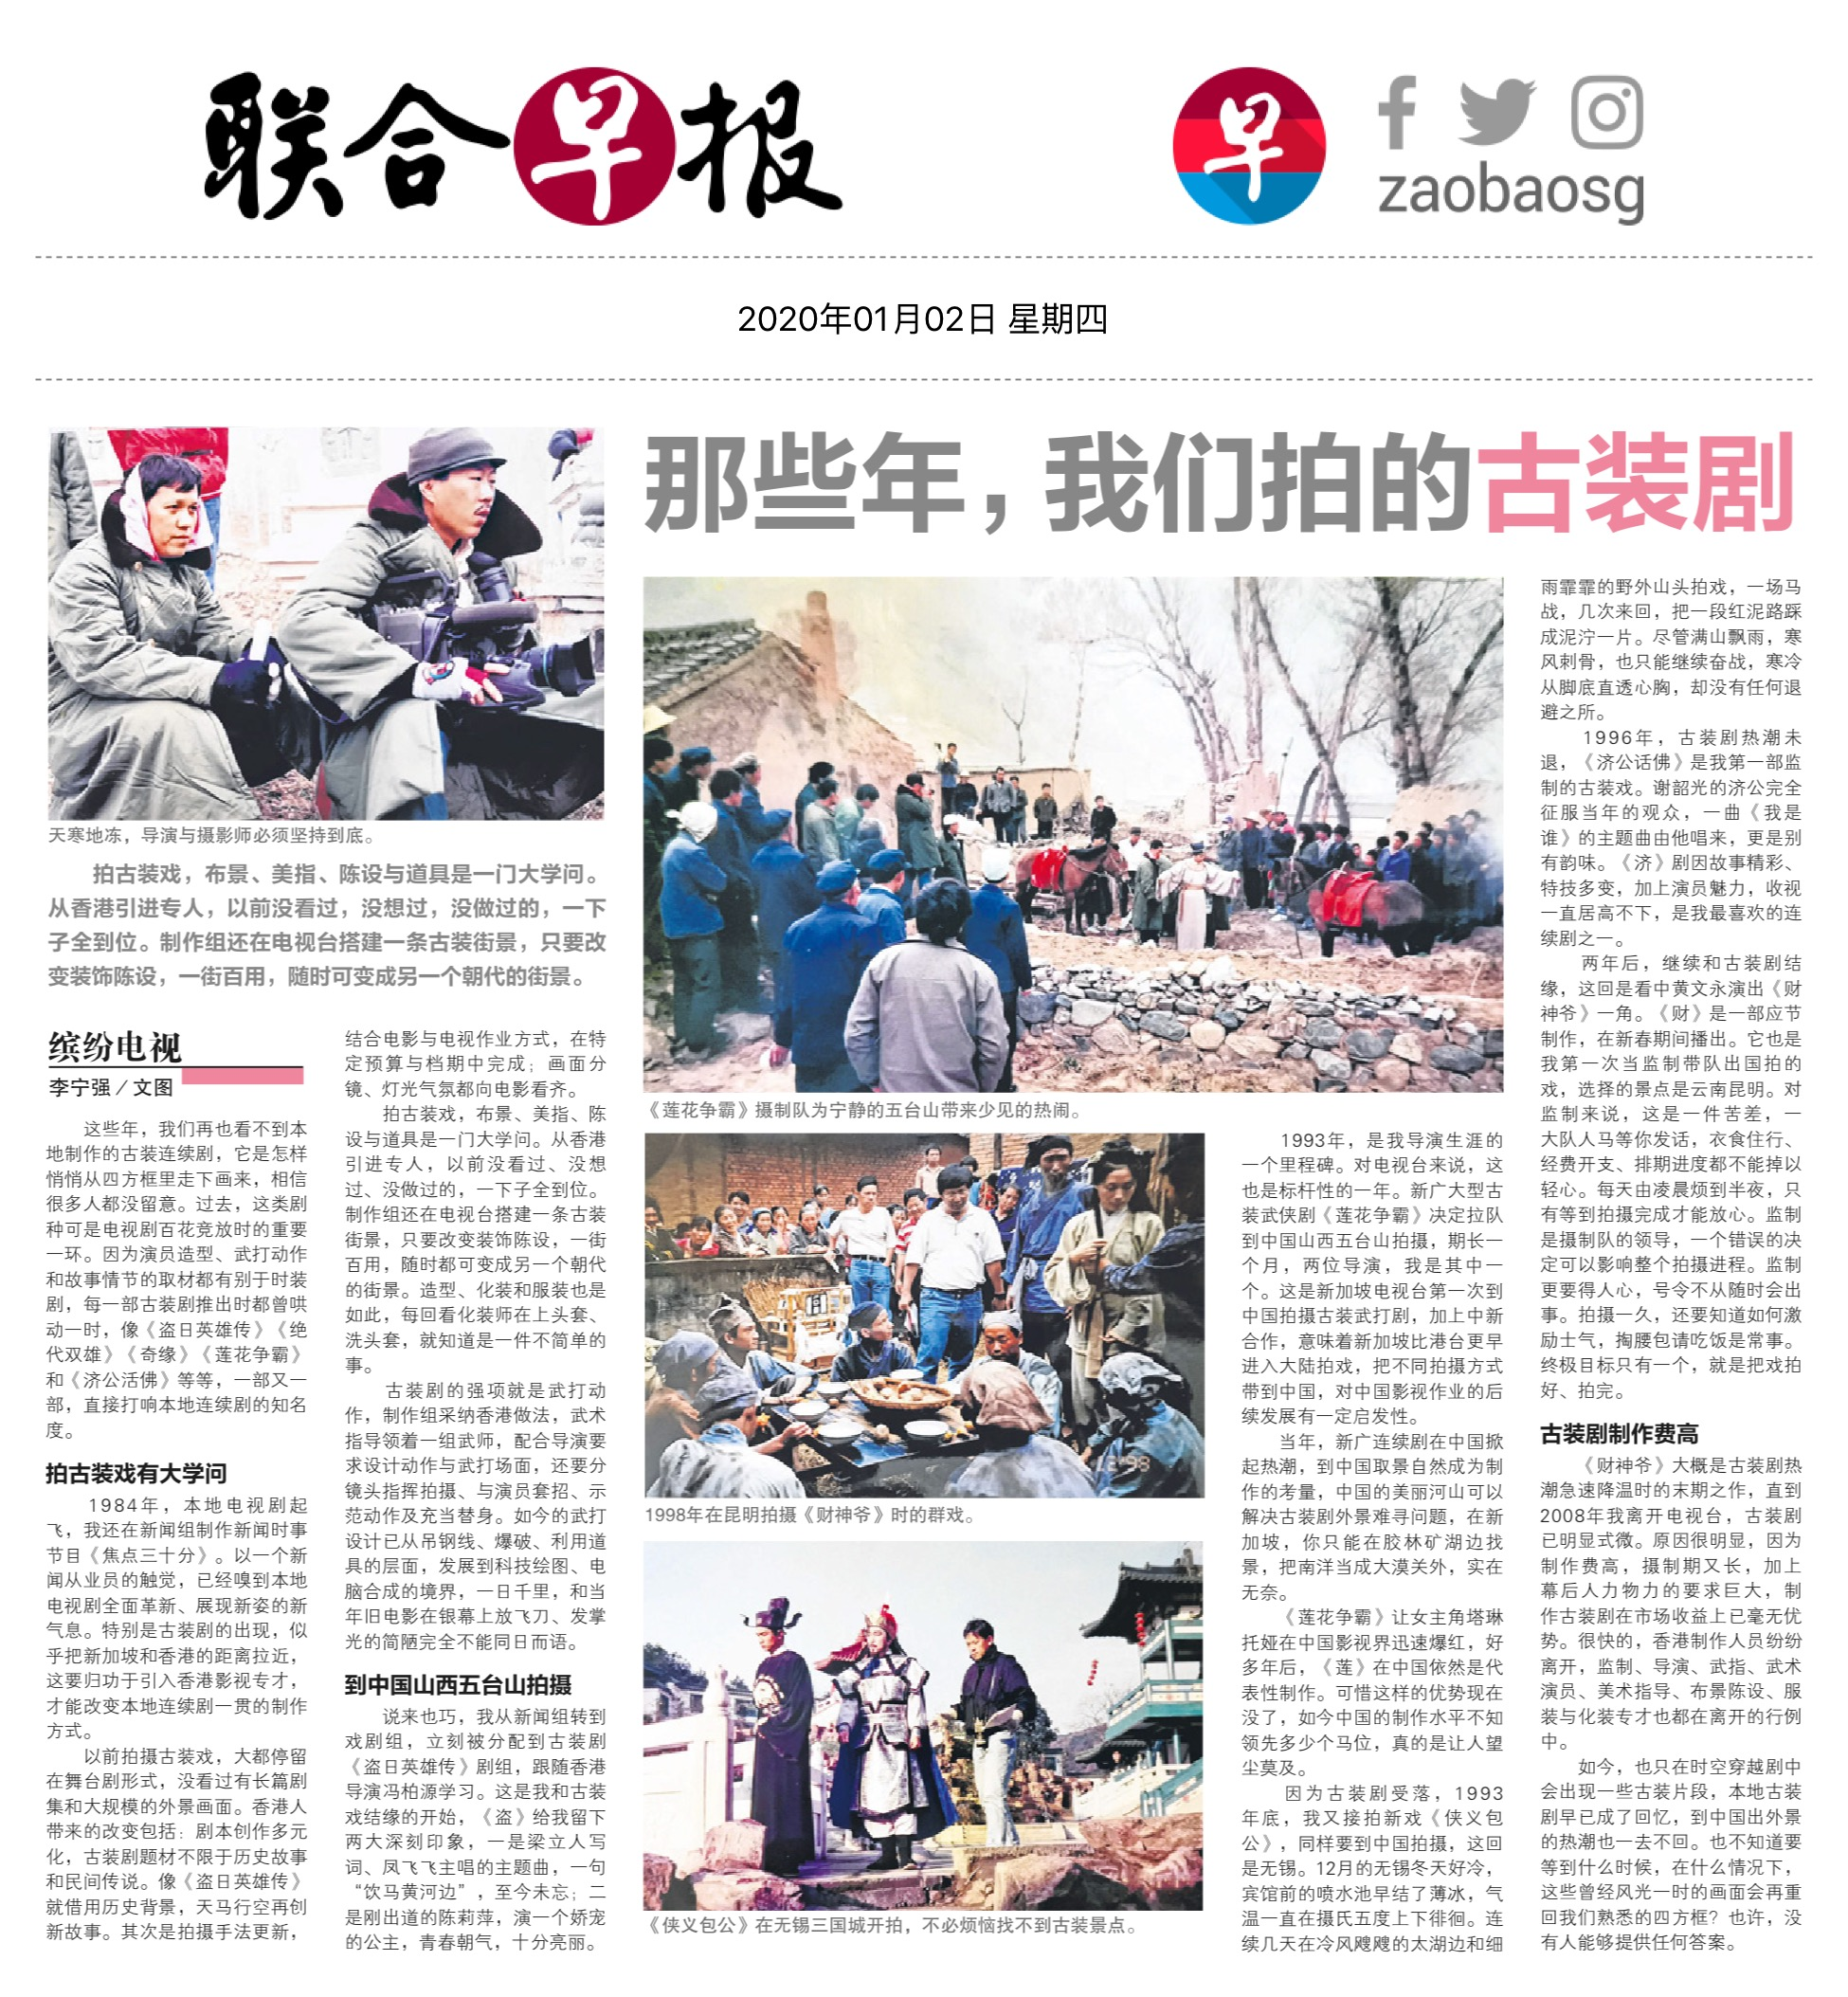heading: (635, 417, 1801, 546)
